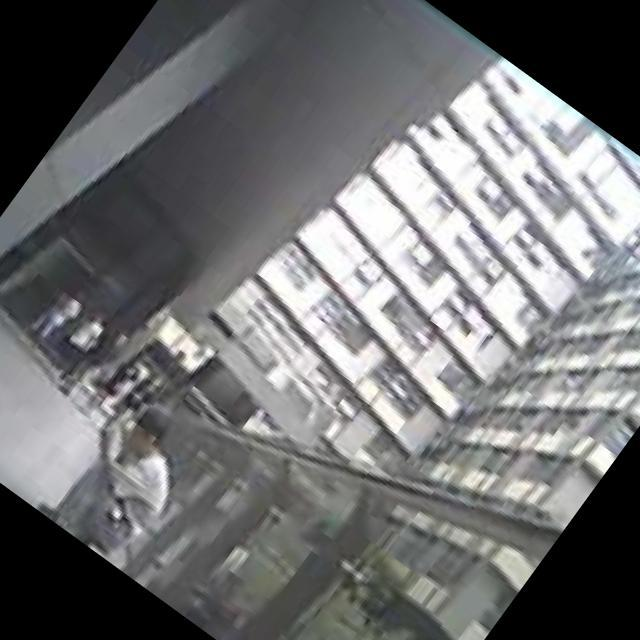person: (37, 384, 210, 570), (59, 320, 132, 406), (19, 277, 92, 358), (44, 296, 112, 376), (103, 369, 164, 440), (88, 350, 145, 418)
